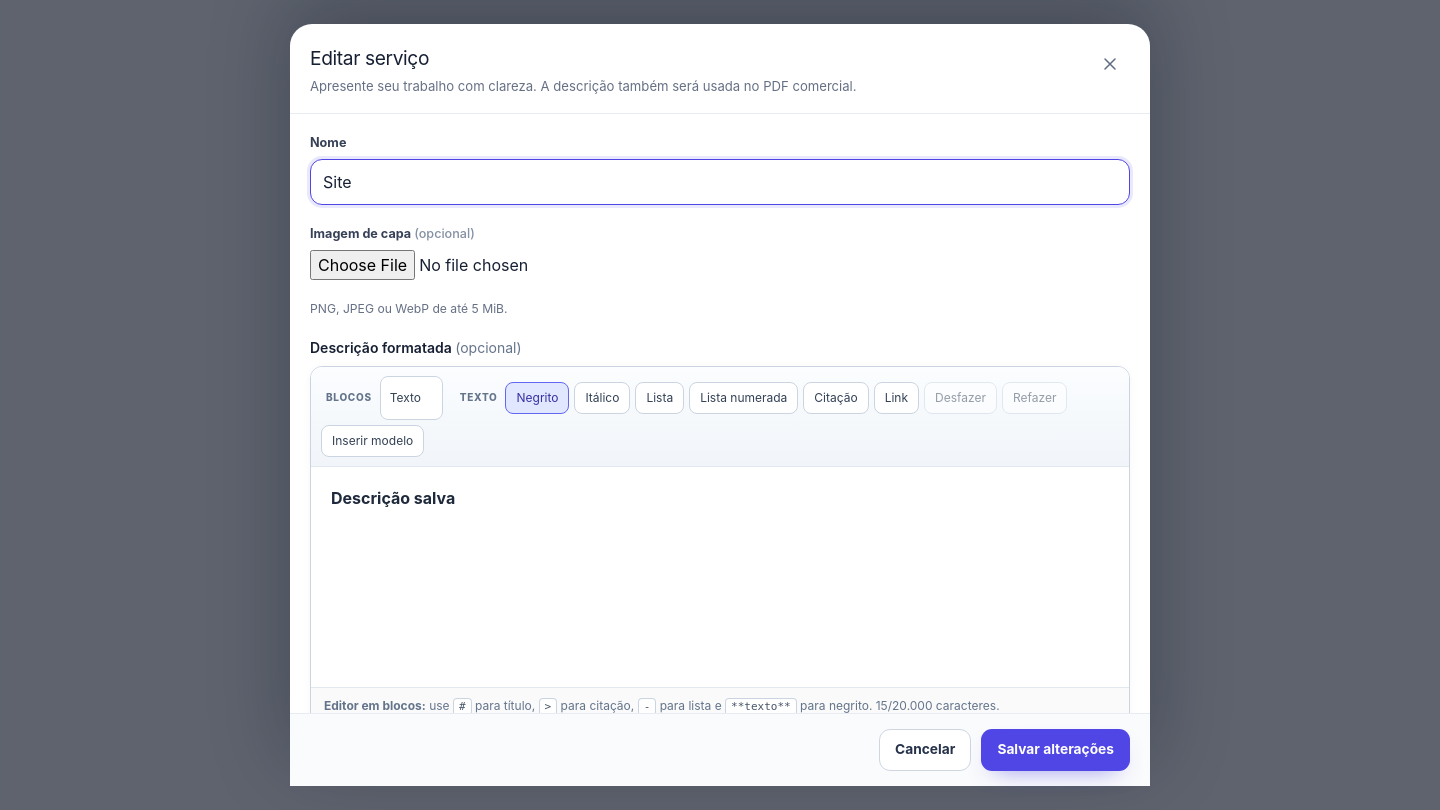
Test: Serviços › reabre formatação salva, valida nome e preserva formulário após falha
The image size is (1440, 810).
Expected: the text box labelled "Descrição salva" is shown, 331,488 -> 455,508
Clear the field labelled "Nome" at point(720, 182), box 310,159 -> 1130,205
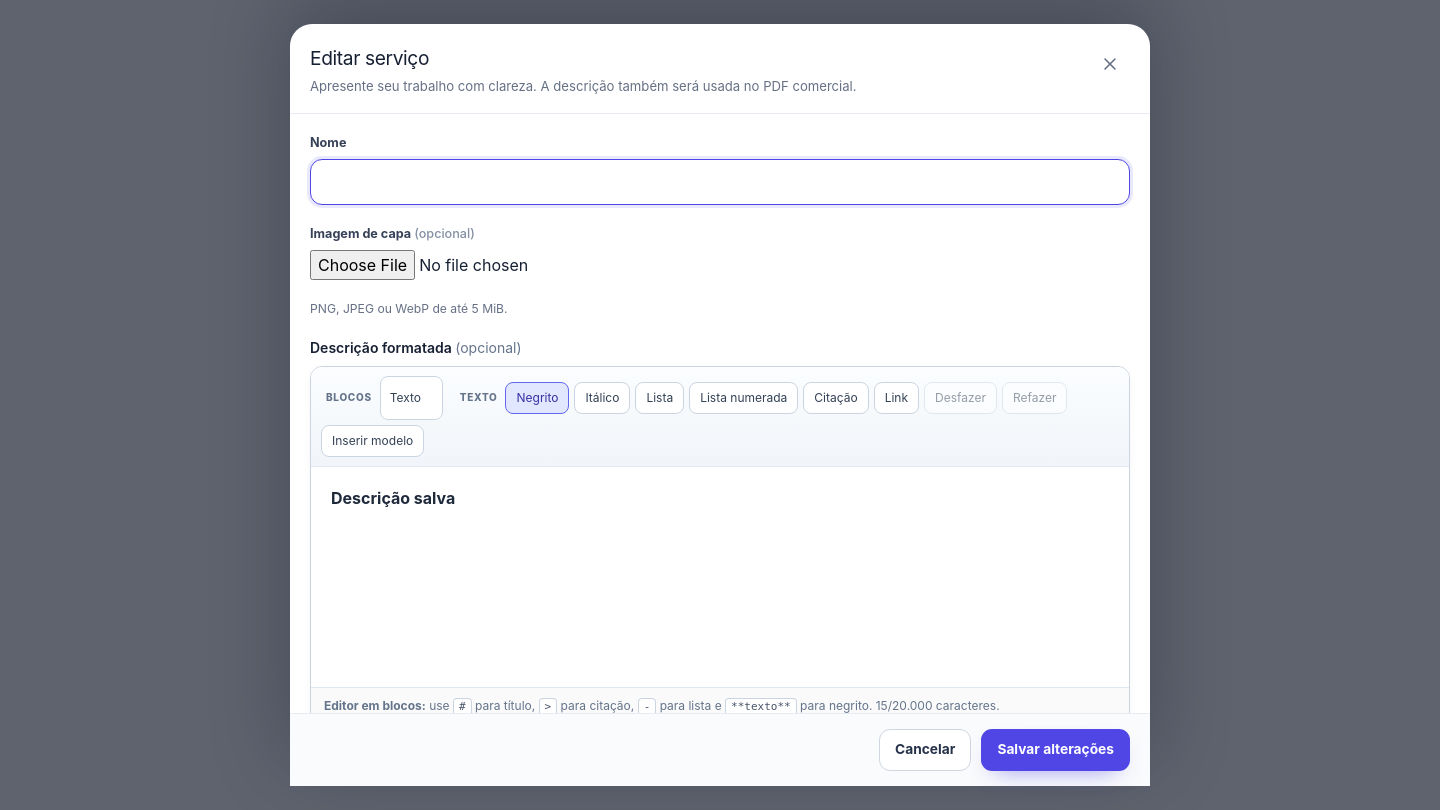
Click the button "Salvar alterações".
click(1056, 750)  # box 981,729 -> 1130,771
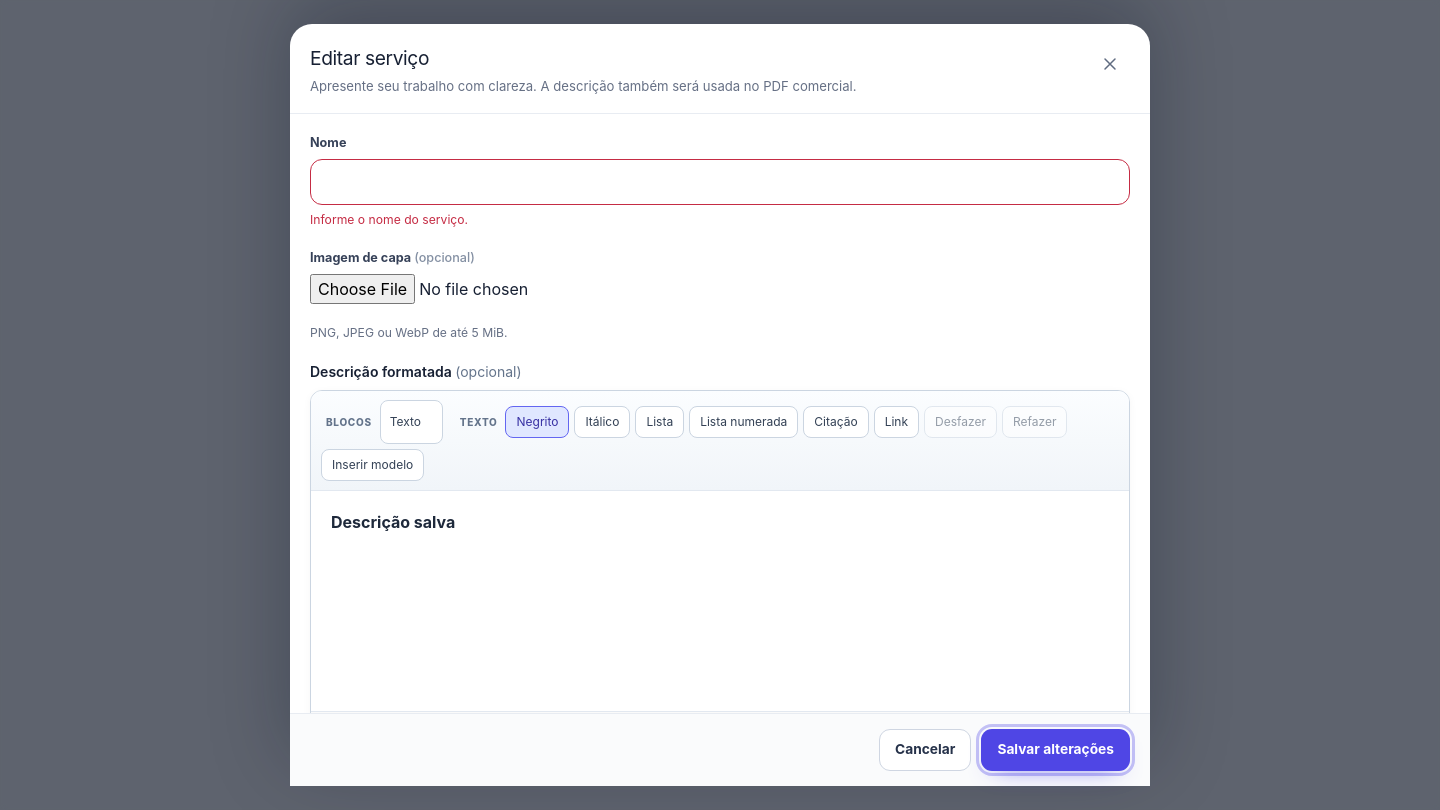
Result: the text "Informe o nome do serviço." is shown at 310,212 -> 468,227
Type "Novo nome" into the field labelled "Nome".
click(720, 182); type("Novo nome")  # box 310,159 -> 1130,205
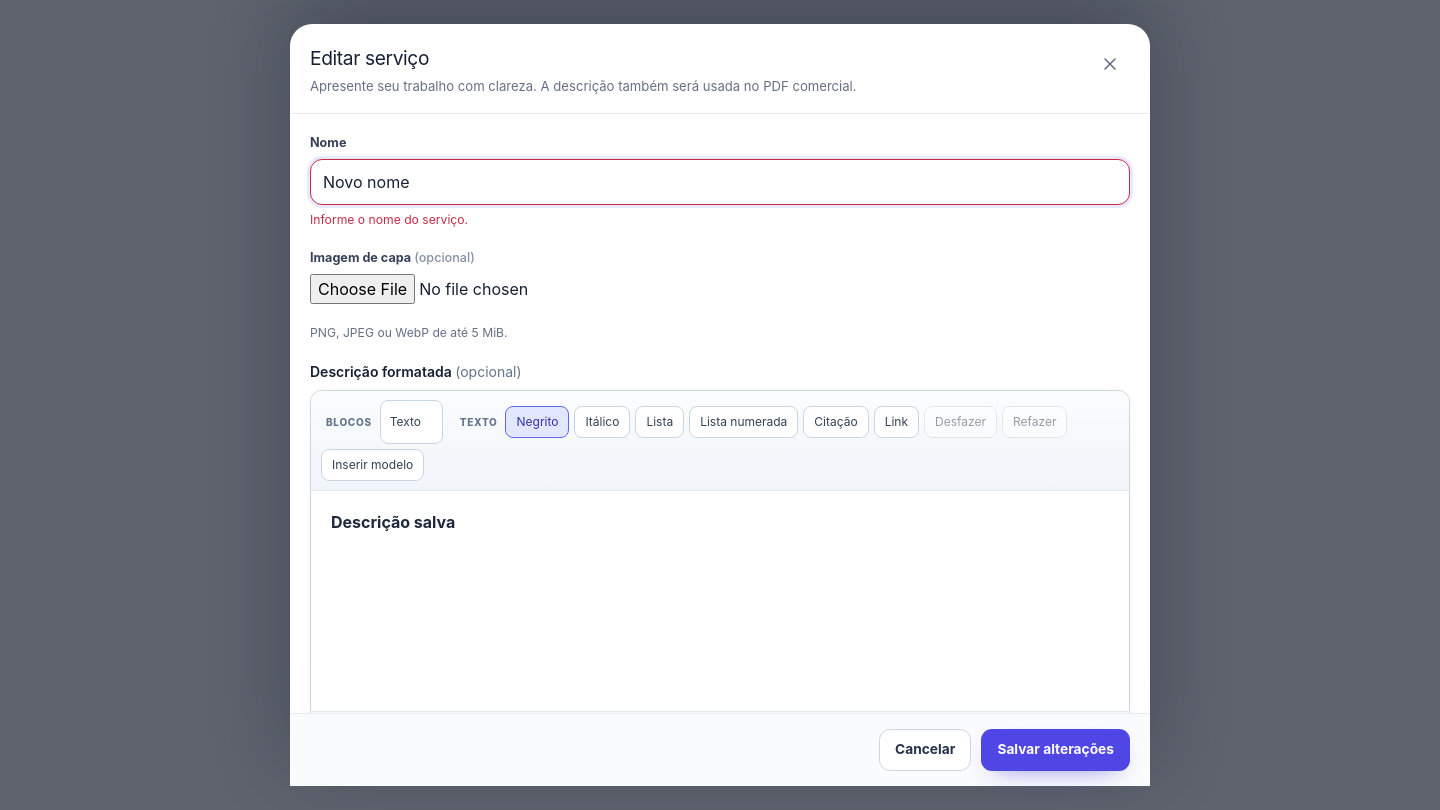
Click the button "Salvar alterações".
click(1056, 750)  # box 981,729 -> 1130,771
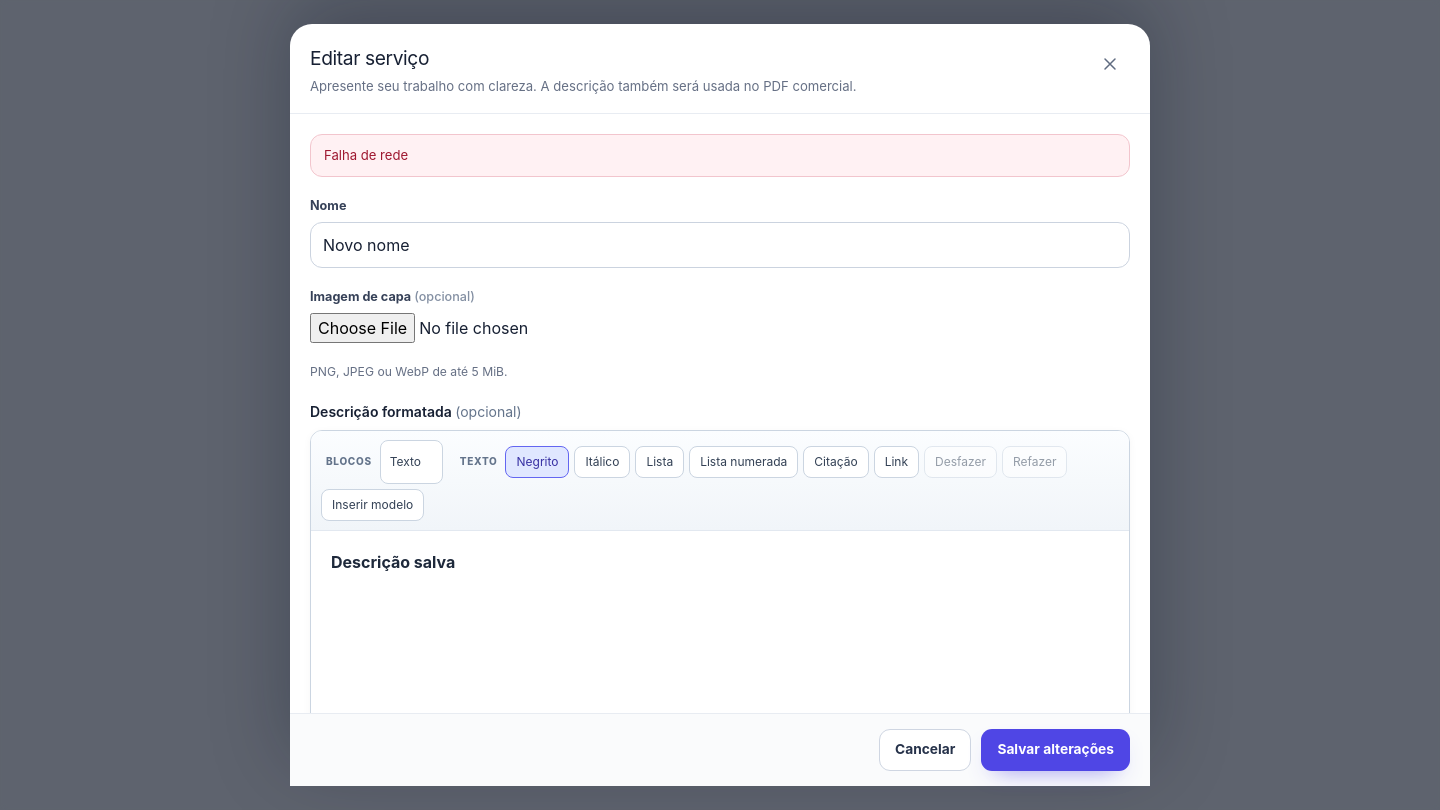
Result: the text "Falha de rede" is shown at 310,134 -> 1130,178
